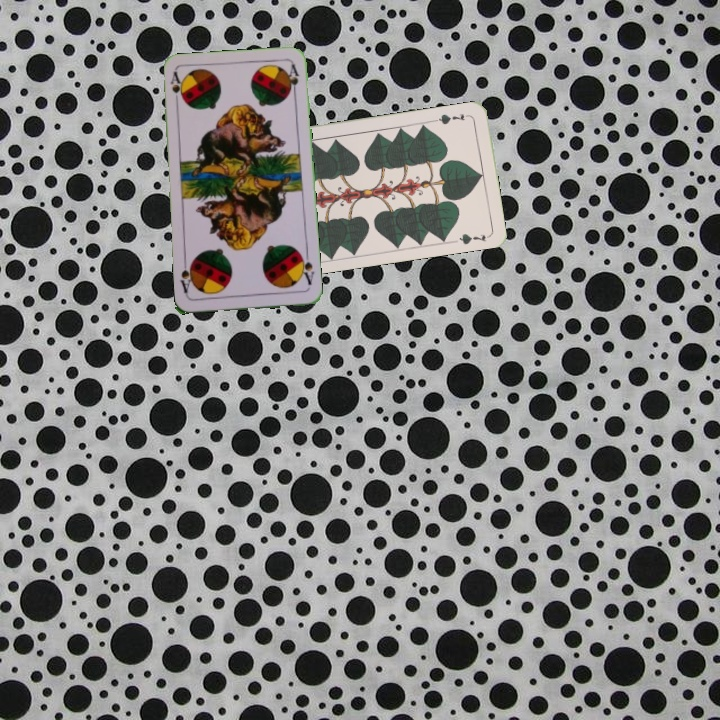G7: (432, 109, 472, 127)
SA: (296, 249, 317, 287), (166, 69, 184, 109)
